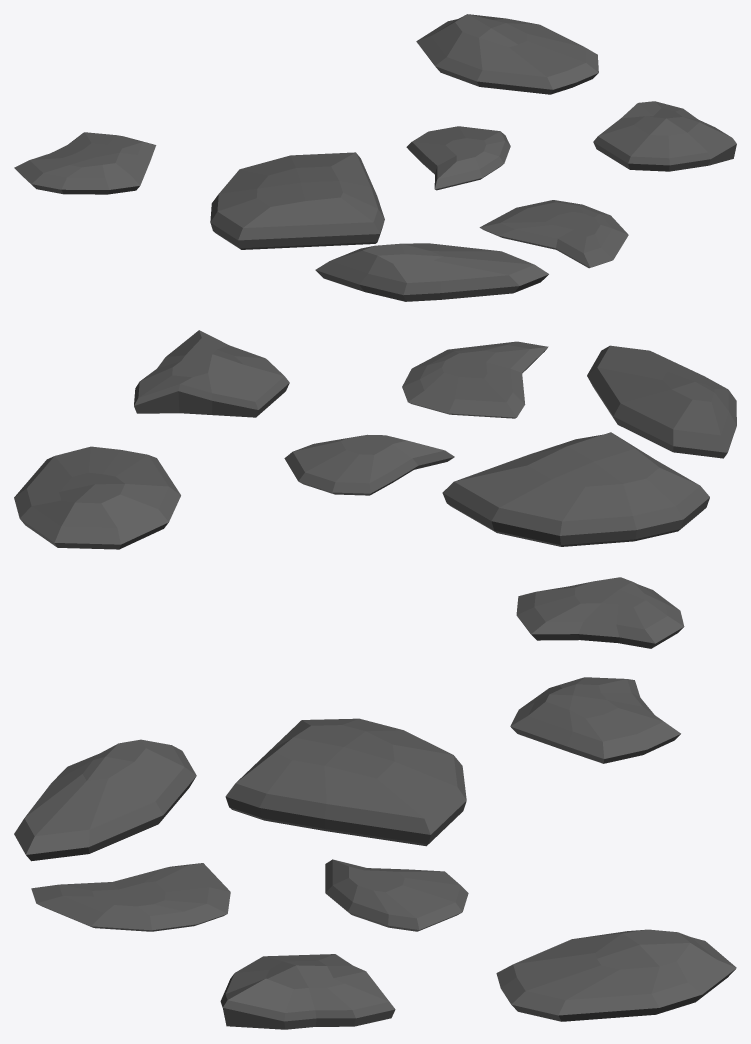
Rendered from palmrock4.glb.
3 renders of one model, top to bottom at view 1: azimuth 30°, elevation 25°; view 2: azimuth 150°, elevation 25°; view 3: azimuth 270°, elevation 25°, orthographic. The views are drawn at different scales.
Visible parts, largest first — view 1: PalmRock5-col; view 2: PalmRock5-col; view 3: PalmRock5-col.
Part boxes in pixels (x1,y1,x2,y2): PalmRock5-col: (14,14,736,301); PalmRock5-col: (14,330,736,648); PalmRock5-col: (14,677,736,1029).
Size of the model in its own units: 1.16 by 0.0744 by 1.03.
1 material, 1 textured.
